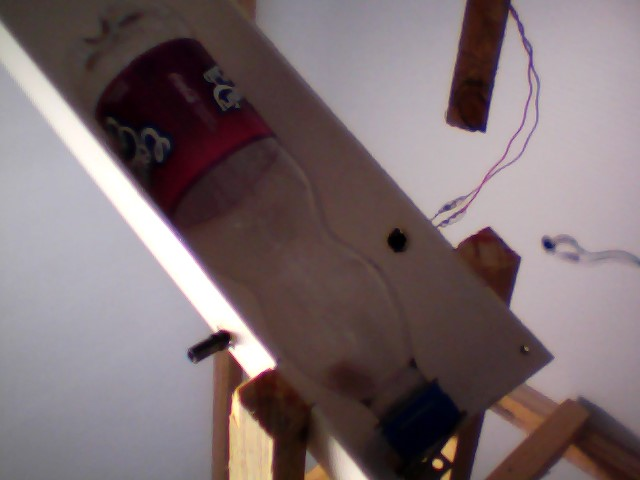plastico: (57, 1, 470, 467)
